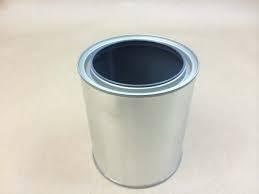Tin: (75, 30, 210, 192)
